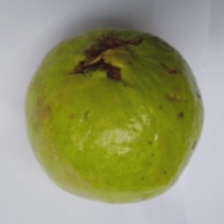guava: (42, 34, 221, 180)
